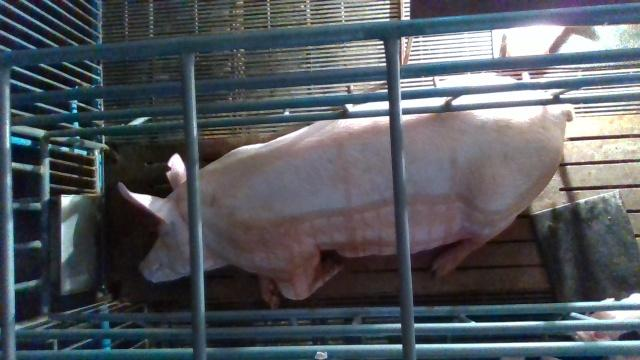piglet: (572, 292, 640, 341)
sow-sleep: (118, 73, 572, 301)
